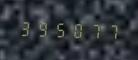five: (52, 19, 68, 39)
nine: (34, 18, 50, 39)
seven: (86, 20, 102, 41), (103, 21, 119, 41)
three: (17, 18, 33, 38)
zero: (69, 20, 85, 40)
